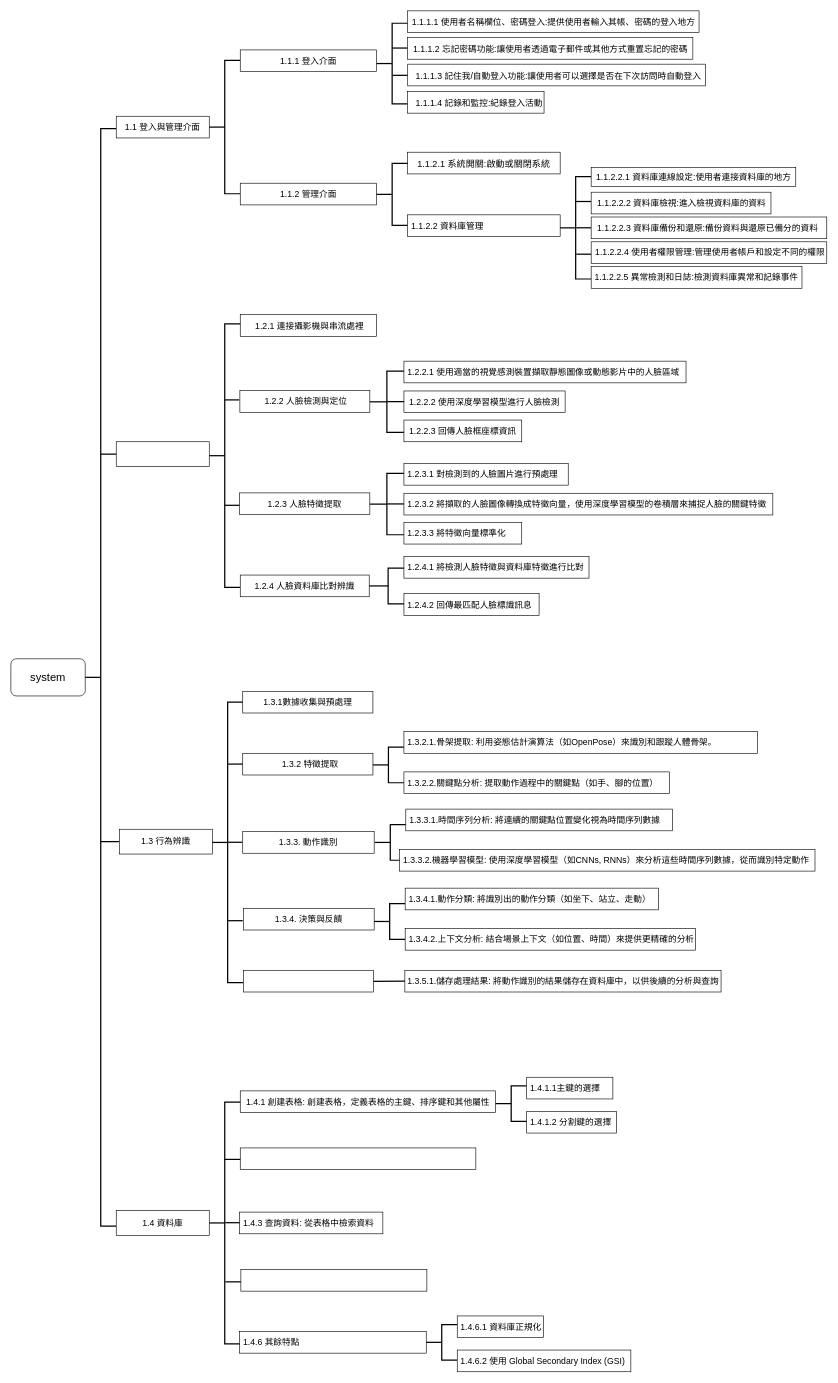
This 838x1383 diagram has some shape labels left out. The centre of each missing label's shape, as x and y in pixels:
"1.2 人臉辨識" belongs at point 162,454.
"1.3.5. 數據儲存" belongs at point 308,981.
"1.4.2 儲存影片: 觸發Lambda向DynamoDB表格中插入資料" belongs at point 358,1158.
"1.4.5 掃描表格: 掃描整個表格以獲取所有資料" belongs at point 333,1280.
